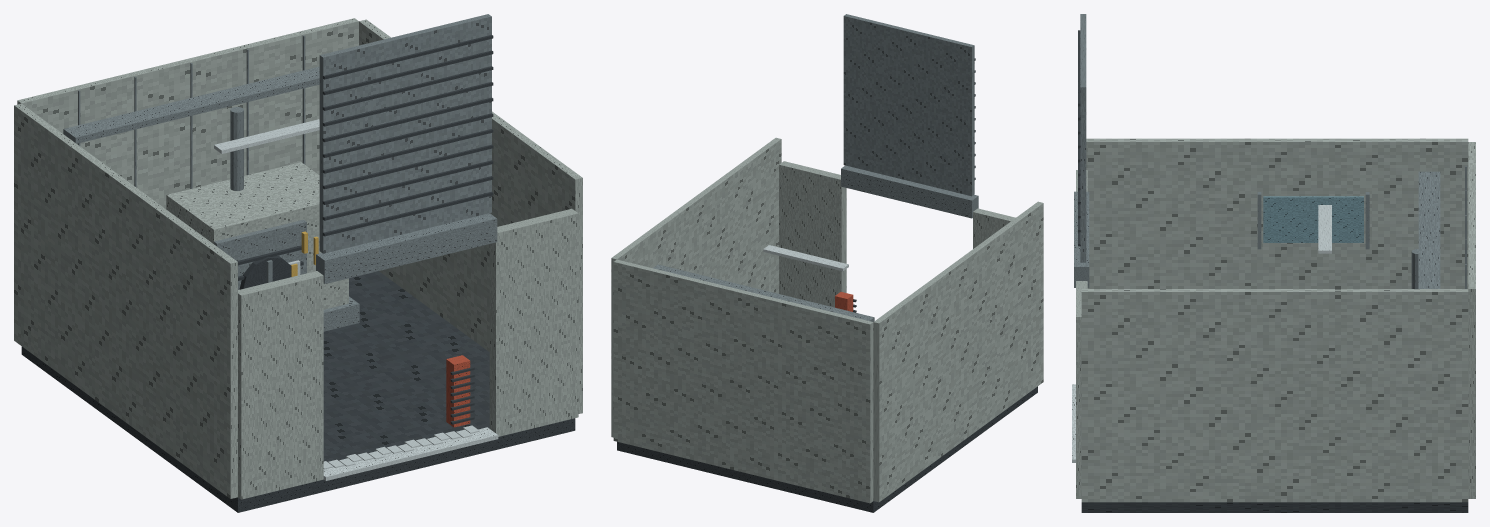
The model's file is generator-annex.glb.
The picture shows the model from 3 angles, left to right: view 1: azimuth 30°, elevation 25°; view 2: azimuth 150°, elevation 25°; view 3: azimuth 270°, elevation 25°; orthographic projection. The views are drawn at different scales.
Parts seen in each view (by area): view 1: side_wall (×2), threshold_wing (×2), shutter_panel, loc.generator_annex.floor, north_wall, prop.generator, shutter_rib (×11), threshold_header, overhead_cable_tray, starter_access_cover, threshold_sill, prop.generator_coil (+4 smaller); view 2: north_wall, side_wall (×2), shutter_panel, threshold_wing (×2), loc.generator_annex.floor, threshold_header, overhead_cable_tray, cold_strip_light; view 3: side_wall (×2), loc.generator_annex.floor, sealed_west_window, north_wall, overhead_cable_tray, shutter_panel, threshold_wing, threshold_header, cold_strip_light.
Boxes of the visible parts, bbox=[...] form: side_wall (×2): bbox=[14, 19, 582, 498]; threshold_wing (×2): bbox=[238, 208, 578, 499]; shutter_panel: bbox=[319, 14, 491, 253]; loc.generator_annex.floor: bbox=[21, 271, 575, 512]; north_wall: bbox=[17, 18, 358, 208]; prop.generator: bbox=[166, 162, 348, 309]; shutter_rib (×11): bbox=[322, 35, 493, 236]; threshold_header: bbox=[316, 213, 497, 283]; overhead_cable_tray: bbox=[63, 66, 319, 143]; starter_access_cover: bbox=[214, 219, 306, 289]; threshold_sill: bbox=[323, 427, 498, 480]; prop.generator_coil: bbox=[446, 355, 470, 427]; north_wall: bbox=[613, 259, 873, 503]; side_wall (×2): bbox=[611, 137, 1043, 502]; shutter_panel: bbox=[843, 14, 974, 196]; threshold_wing (×2): bbox=[779, 161, 1015, 307]; loc.generator_annex.floor: bbox=[617, 386, 1037, 512]; threshold_header: bbox=[841, 165, 978, 218]; overhead_cable_tray: bbox=[653, 264, 874, 321]; cold_strip_light: bbox=[763, 245, 848, 271]; side_wall (×2): bbox=[1081, 138, 1468, 502]; loc.generator_annex.floor: bbox=[1081, 502, 1468, 512]; sealed_west_window: bbox=[1263, 196, 1363, 242]; north_wall: bbox=[1468, 142, 1475, 498]; overhead_cable_tray: bbox=[1418, 171, 1440, 288]; shutter_panel: bbox=[1080, 14, 1086, 262]; threshold_wing: bbox=[1076, 281, 1087, 498]; threshold_header: bbox=[1074, 191, 1089, 287]; cold_strip_light: bbox=[1318, 205, 1331, 253].
Bounding box in the file's own units: 4.7 × 5.55 × 5.22.
Materials: 7 (7 with a texture image).
